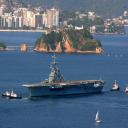Portanaves: (23, 52, 109, 101)
